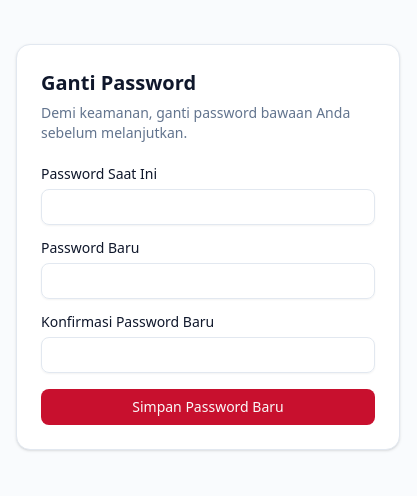
ChangePasswordScreen — form validation › flags a mismatched confirmation and a too-short new password
Type "temp-password" into the password field labelled "Password Saat Ini" at [208, 207], box [41, 189, 375, 225]
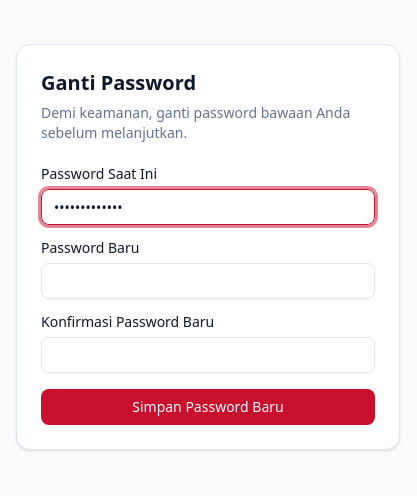
Type "short" into the password field labelled "Password Baru" at [208, 281], box [41, 263, 375, 299]
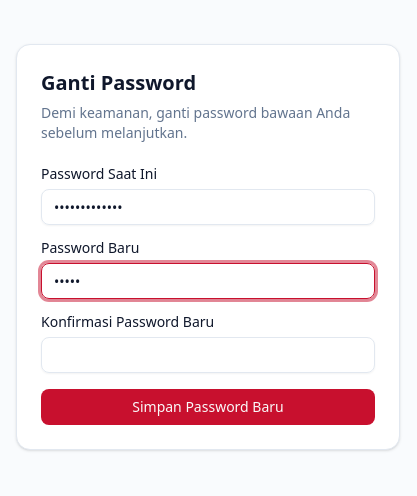
Type "different" into the password field labelled "Konfirmasi Password Baru" at [208, 355], box [41, 337, 375, 373]
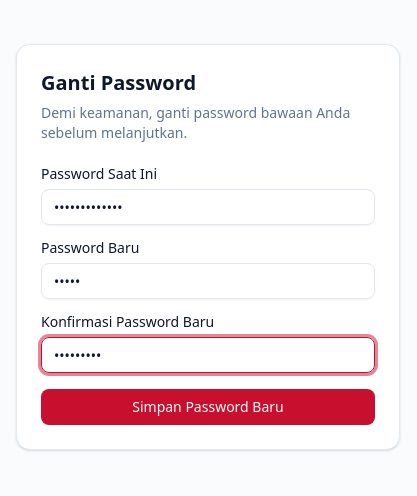
Click the button "Simpan Password Baru" at [208, 407], box [41, 389, 375, 425]
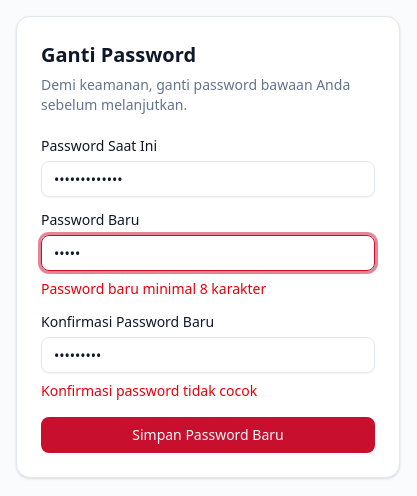
Expected: the text "Password baru minimal 8 karakter" is shown, [41, 279, 266, 298]
